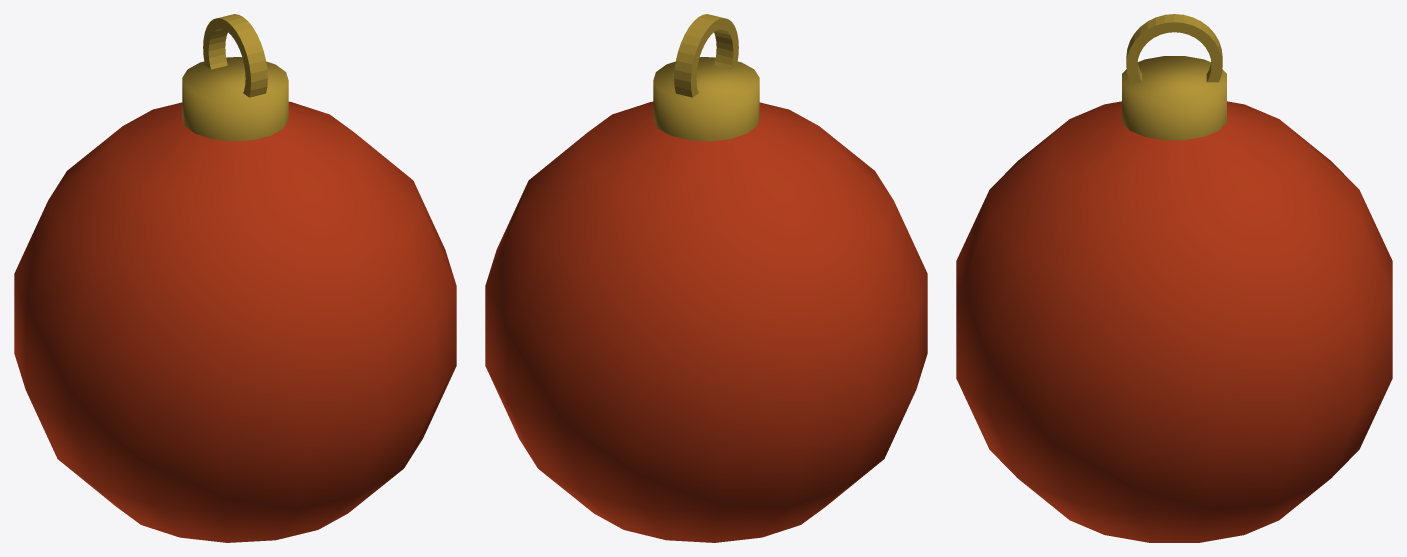
Rendered from boule_rouge.fbx.
3 renders of one model, left to right at view 1: azimuth 30°, elevation 25°; view 2: azimuth 150°, elevation 25°; view 3: azimuth 270°, elevation 25°, orthographic.
Parts seen in each view (by area): view 1: Sphere.001, Sphere, Cylinder; view 2: Sphere.001, Sphere, Cylinder; view 3: Sphere.001, Sphere, Cylinder.
Part boxes in pixels (x1,y1,x2,y2): Sphere.001: (14, 101, 456, 542); Sphere: (182, 57, 288, 141); Cylinder: (203, 14, 267, 97); Sphere.001: (485, 101, 927, 542); Sphere: (653, 57, 759, 141); Cylinder: (674, 14, 738, 97); Sphere.001: (956, 101, 1392, 542); Sphere: (1122, 56, 1226, 140); Cylinder: (1126, 14, 1222, 82).
Size of the model in its own units: 192 by 247 by 192.
